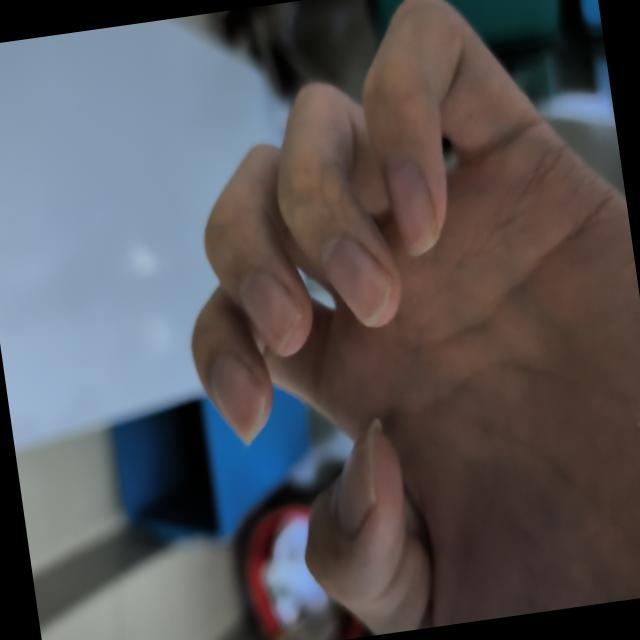Nail: (321, 235, 391, 325), (387, 155, 437, 256), (240, 269, 302, 349), (212, 351, 265, 444), (335, 420, 376, 531)
